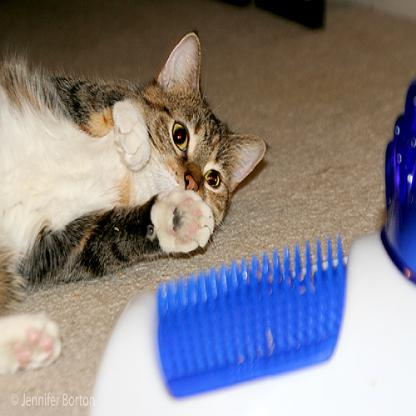cat: (0, 29, 269, 377)
